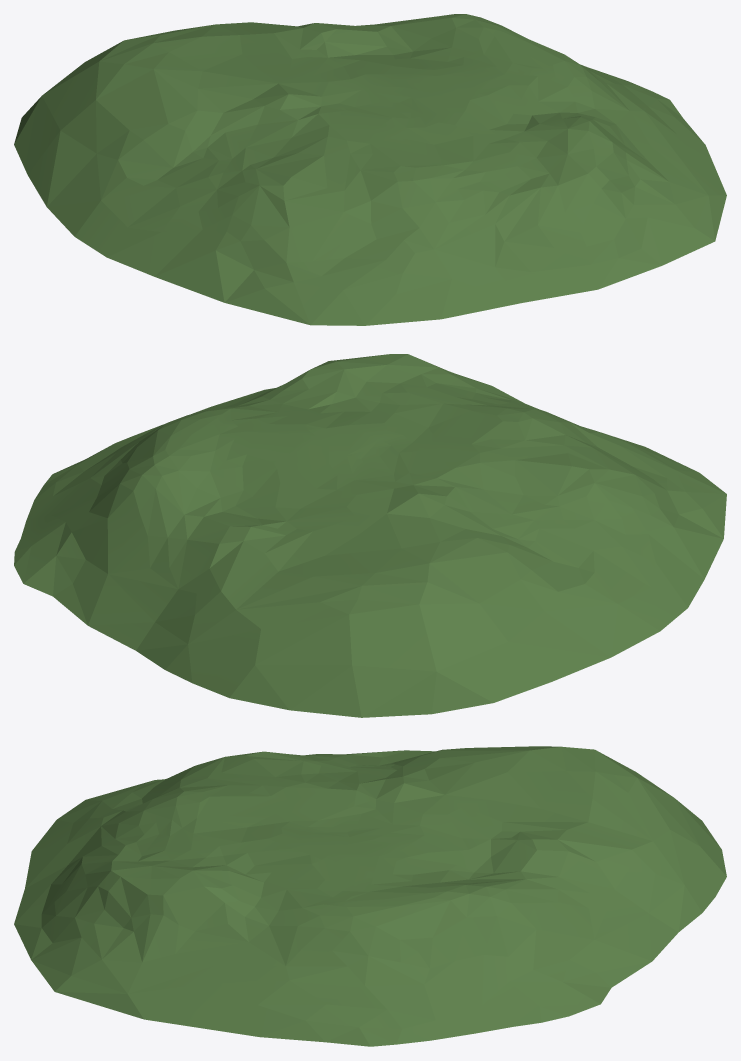
3 views of the same model, one above another, from view 1: azimuth 30°, elevation 25°; view 2: azimuth 150°, elevation 25°; view 3: azimuth 270°, elevation 25° (orthographic). The views are drawn at different scales.
Visible parts, largest first — view 1: SM_Generic_Ground_04; view 2: SM_Generic_Ground_04; view 3: SM_Generic_Ground_04.
Boxes of the visible parts, box(x1,y1,x2,y2) form: SM_Generic_Ground_04: box(14, 14, 726, 325); SM_Generic_Ground_04: box(14, 354, 726, 717); SM_Generic_Ground_04: box(14, 746, 726, 1046).
Bounding box in the file's own units: 18.38 × 2.47 × 19.12.
Materials: 1 (1 with a texture image).
